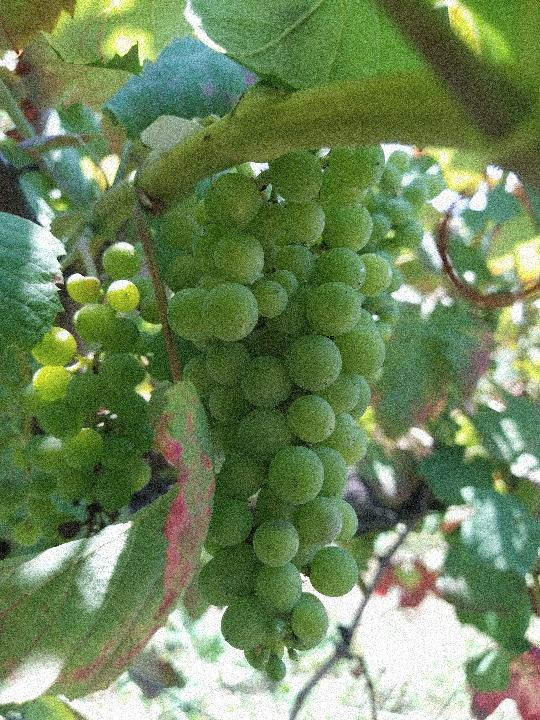grape: (151, 141, 401, 688)
